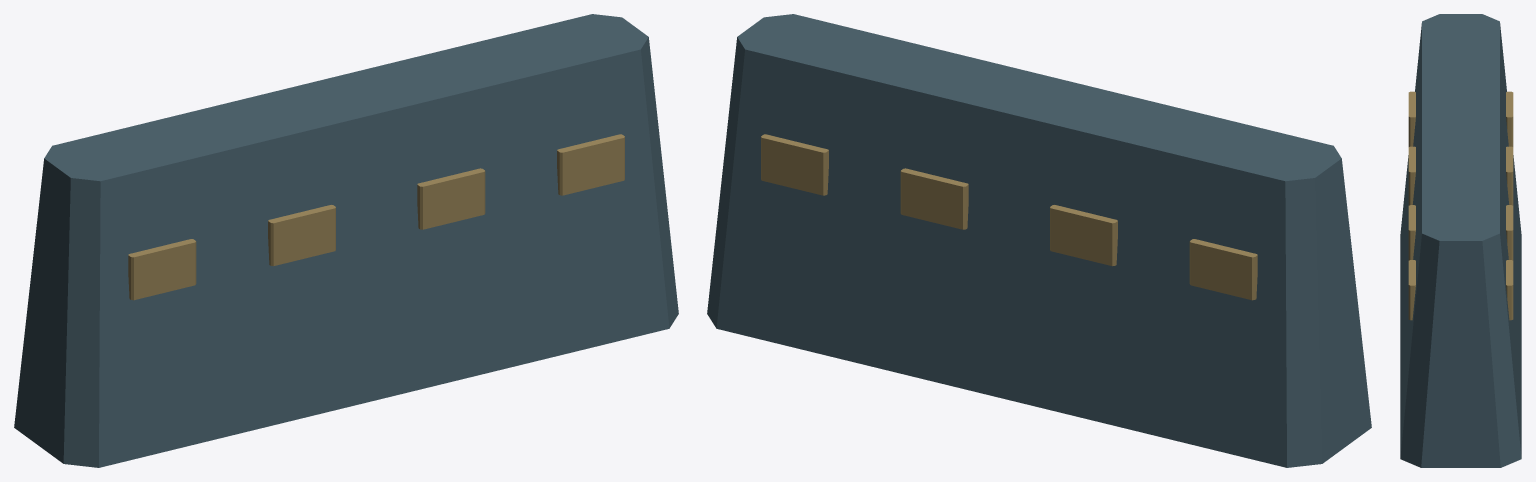
File: wall.glb
3 views of the same model, side by side, from view 1: azimuth 30°, elevation 25°; view 2: azimuth 150°, elevation 25°; view 3: azimuth 270°, elevation 25° (orthographic). The views are drawn at different scales.
Parts seen in each view (by area): view 1: wall; view 2: wall; view 3: wall.
Boxes of the visible parts, x1,y1,x2,y2 form: wall: [14, 14, 678, 467]; wall: [707, 14, 1371, 467]; wall: [1400, 14, 1521, 467].
Bounding box in the file's own units: 3.3 × 1.4 × 0.7.
